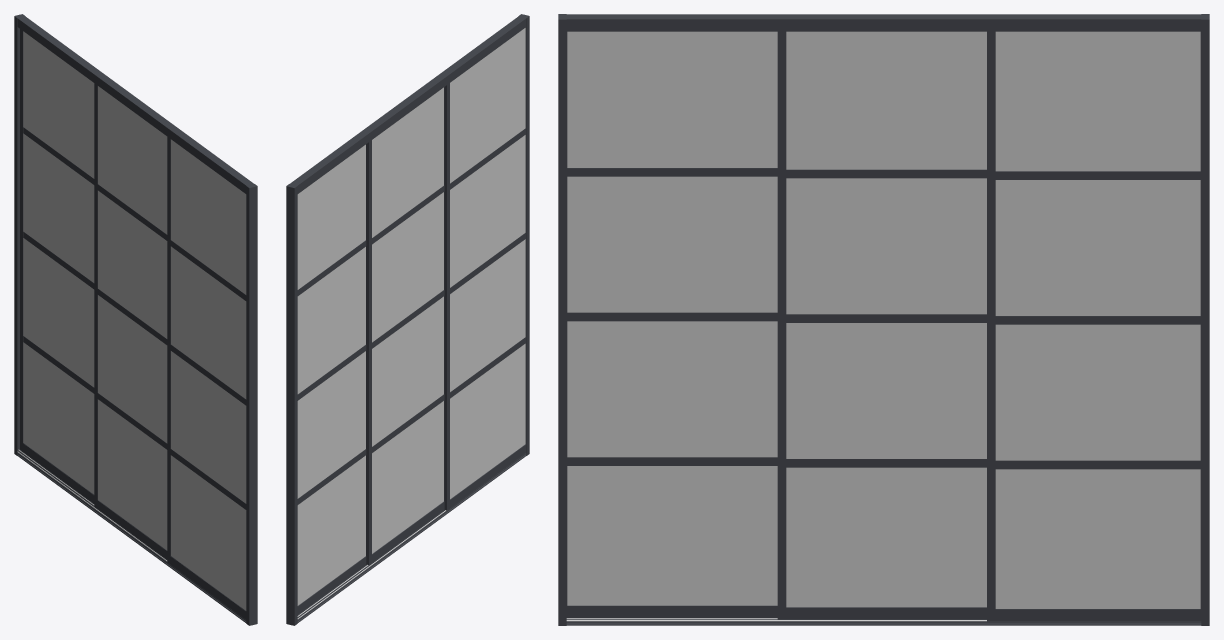
The model's file is nebbiolo_steel_door_left_500_250.glb.
The picture shows the model from 3 angles, left to right: view 1: azimuth 30°, elevation 25°; view 2: azimuth 150°, elevation 25°; view 3: azimuth 270°, elevation 25°; orthographic projection. The views are drawn at different scales.
Parts seen in each view (by area): view 1: steel_door_left_500_250; view 2: steel_door_left_500_250; view 3: steel_door_left_500_250.
Boxes of the visible parts, <box> form: steel_door_left_500_250: <box>14,14,257,625</box>; steel_door_left_500_250: <box>286,14,529,625</box>; steel_door_left_500_250: <box>558,14,1209,625</box>.
Size of the model in its own units: 0.0501 by 2.5 by 2.43.
3 materials, 1 textured.
